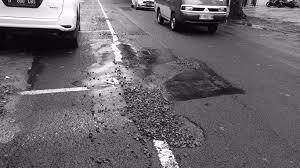Pothole: (96, 45, 209, 155)
